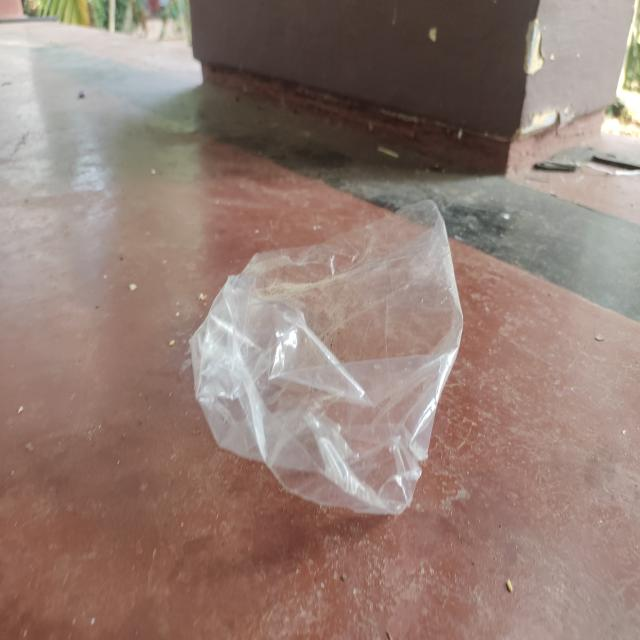plastic: (190, 201, 465, 521)
